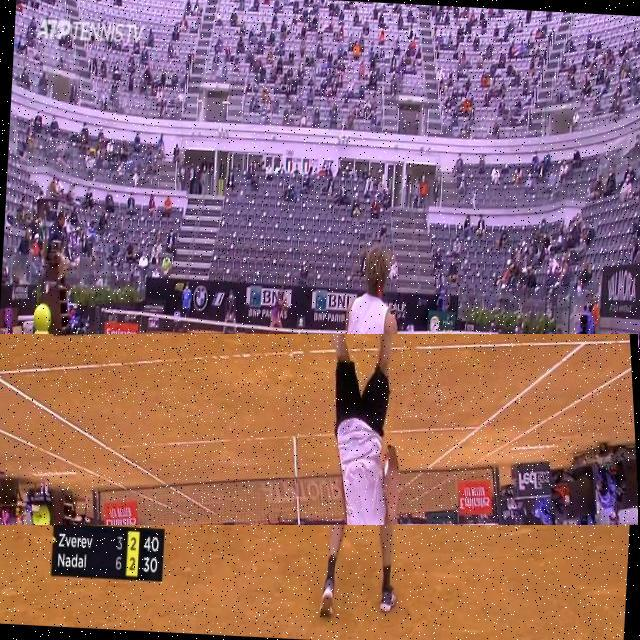court: (0, 334, 638, 525)
net: (88, 308, 506, 395)
player: (317, 241, 417, 624)
